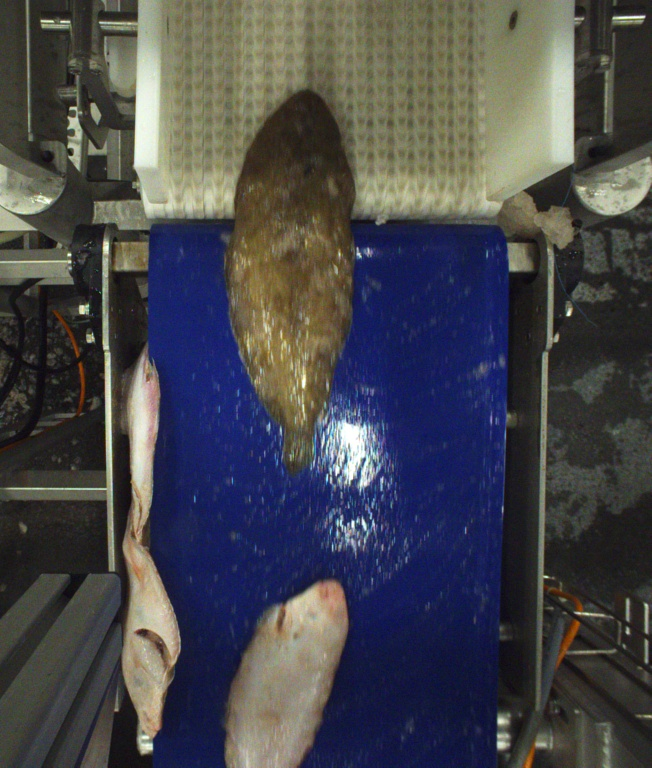SOL: (223, 576, 349, 768)
